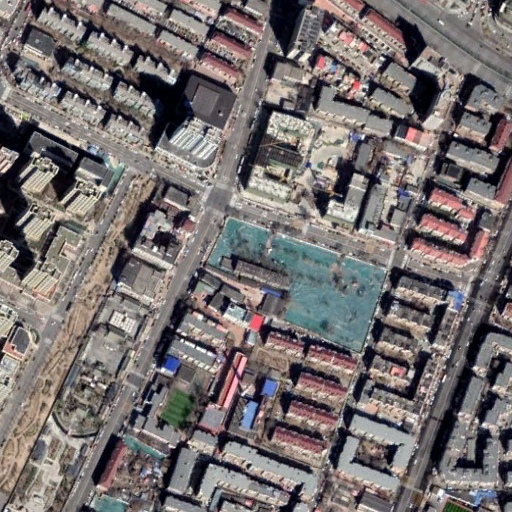cw: (200, 217, 389, 356)
